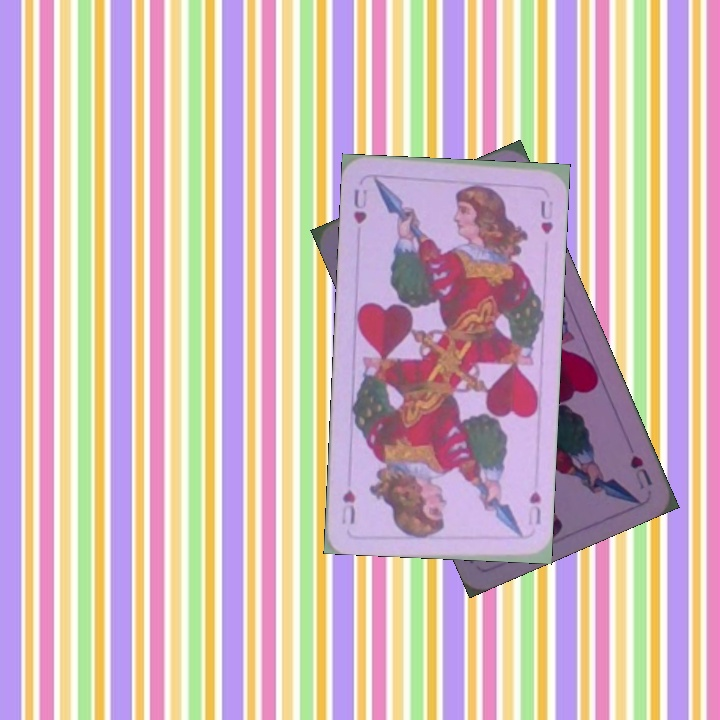HU: (626, 451, 655, 492), (350, 184, 370, 226), (524, 488, 544, 529)
